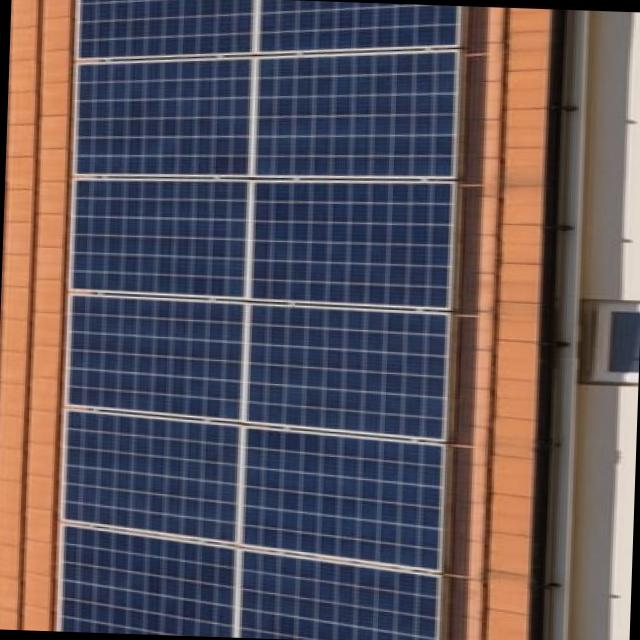no faulty: (60, 2, 459, 640)
